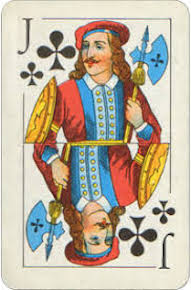JackOfClubs: (1, 1, 189, 290)
